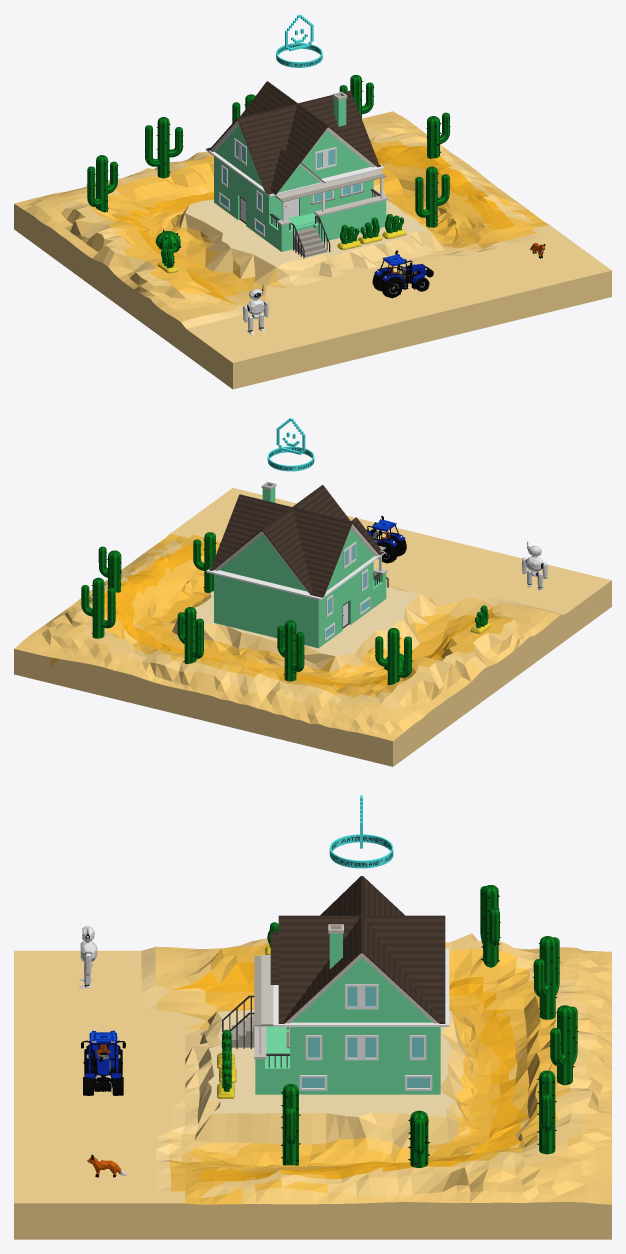
3 views of the same model, one above another, from view 1: azimuth 30°, elevation 25°; view 2: azimuth 150°, elevation 25°; view 3: azimuth 270°, elevation 25° (orthographic). The views are drawn at different scales.
Parts seen in each view (by area): view 1: Cube.001, Cube.352, VEHICLES_TRACTOR, Cylinder.044, Cylinder.037, Cylinder.045, TYPE_PREMIUM, Cylinder.038, OBJRANDOM_PLATZEEBOT, Cylinder.042; view 2: Cube.001, Cube.352, Cylinder.042, Cylinder.045, Cylinder.044, Cylinder.043, VEHICLES_TRACTOR, TYPE_PREMIUM, Cylinder.037, Cylinder.038, OBJRANDOM_PLATZEEBOT; view 3: Cube.001, Cube.352, VEHICLES_TRACTOR, Cylinder.044, Cylinder.043, Cylinder.045, Cylinder.042, Cylinder.037, TYPE_PREMIUM, Cylinder.038, OBJRANDOM_PLATZEEBOT.
Part boxes in pixels (box(x1,y1,x2,y2)): Cube.001: box(14, 111, 611, 389); Cube.352: box(205, 81, 388, 258); VEHICLES_TRACTOR: box(372, 250, 433, 298); Cylinder.044: box(145, 117, 183, 178); Cylinder.037: box(415, 166, 449, 227); Cylinder.045: box(87, 155, 118, 212); TYPE_PREMIUM: box(276, 14, 322, 67); Cylinder.038: box(426, 112, 450, 158); OBJRANDOM_PLATZEEBOT: box(243, 284, 268, 334); Cylinder.042: box(339, 75, 374, 118); Cube.001: box(14, 488, 611, 766); Cube.352: box(206, 481, 388, 648); Cylinder.042: box(81, 577, 116, 638); Cylinder.045: box(374, 628, 412, 684); Cylinder.044: box(277, 620, 304, 681); Cylinder.043: box(177, 607, 203, 663); VEHICLES_TRACTOR: box(366, 515, 406, 563); TYPE_PREMIUM: box(267, 418, 314, 471); Cylinder.037: box(193, 532, 220, 592); Cylinder.038: box(98, 546, 121, 592); OBJRANDOM_PLATZEEBOT: box(522, 541, 547, 590); Cube.001: box(14, 933, 611, 1239); Cube.352: box(222, 876, 449, 1094); VEHICLES_TRACTOR: box(81, 1030, 125, 1095); Cylinder.044: box(533, 936, 560, 1019); Cylinder.043: box(549, 1005, 578, 1085); Cylinder.045: box(480, 885, 500, 967); Cylinder.042: box(537, 1070, 556, 1154); Cylinder.037: box(281, 1084, 300, 1165); TYPE_PREMIUM: box(329, 795, 393, 868); Cylinder.038: box(408, 1110, 429, 1167); OBJRANDOM_PLATZEEBOT: box(79, 926, 97, 988).
Size of the model in its own units: 4002 by 2445 by 4001.
Materials: 32 (3 with a texture image).
